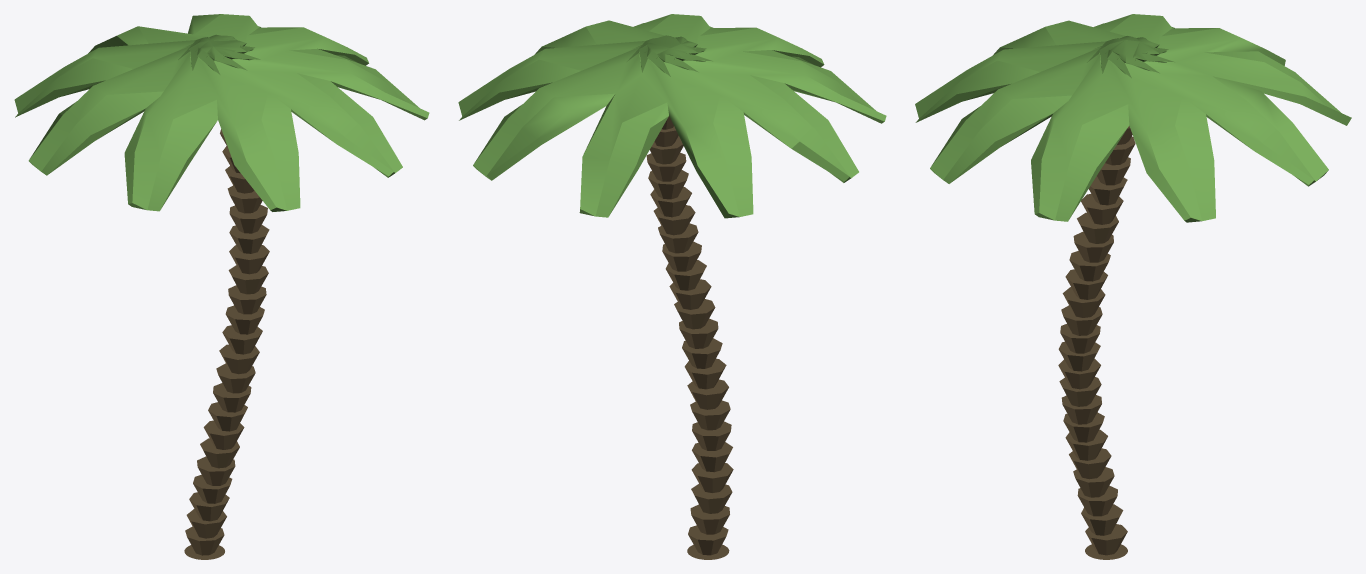
File: tree.fbx
The picture shows the model from 3 angles, left to right: view 1: azimuth 30°, elevation 25°; view 2: azimuth 150°, elevation 25°; view 3: azimuth 270°, elevation 25°; orthographic projection. The views are drawn at different scales.
Parts seen in each view (by area): view 1: ambientLight2; view 2: ambientLight2; view 3: ambientLight2.
Part boxes in pixels (x1,y1,x2,y2): ambientLight2: (14,14,429,559); ambientLight2: (458,14,886,559); ambientLight2: (915,14,1351,559).
Size of the model in its own units: 0.2025 by 0.2665 by 0.2029.
